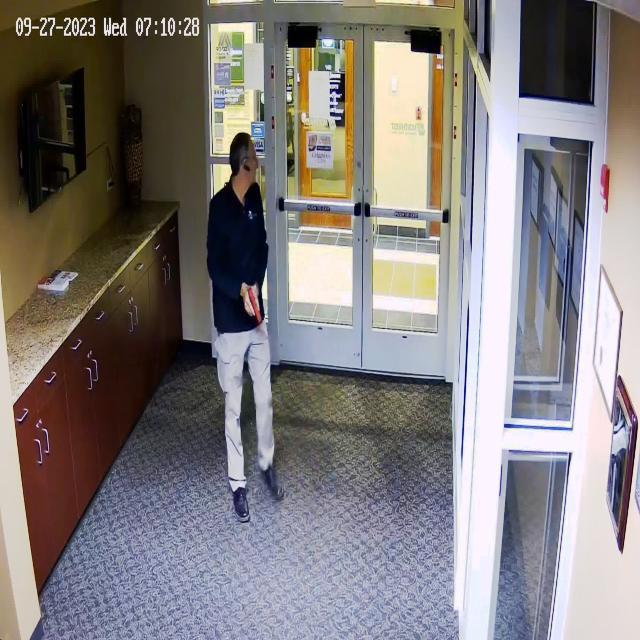Gun: (237, 274, 271, 334)
